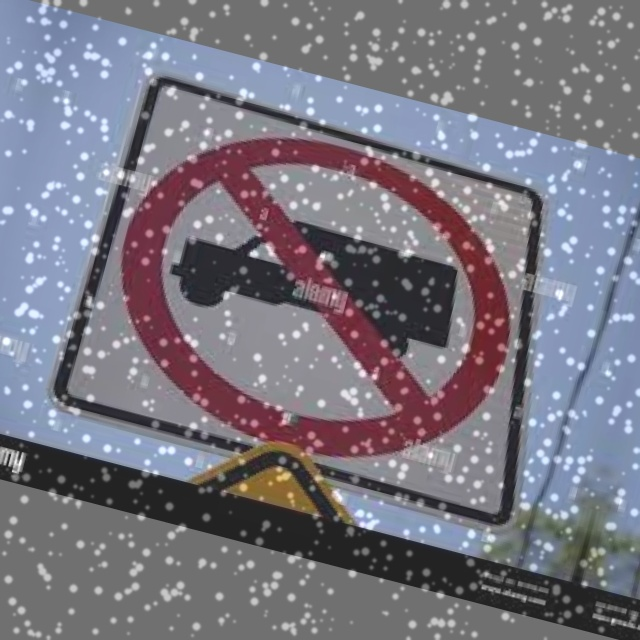Truck_Prohibited: (88, 96, 560, 494)
